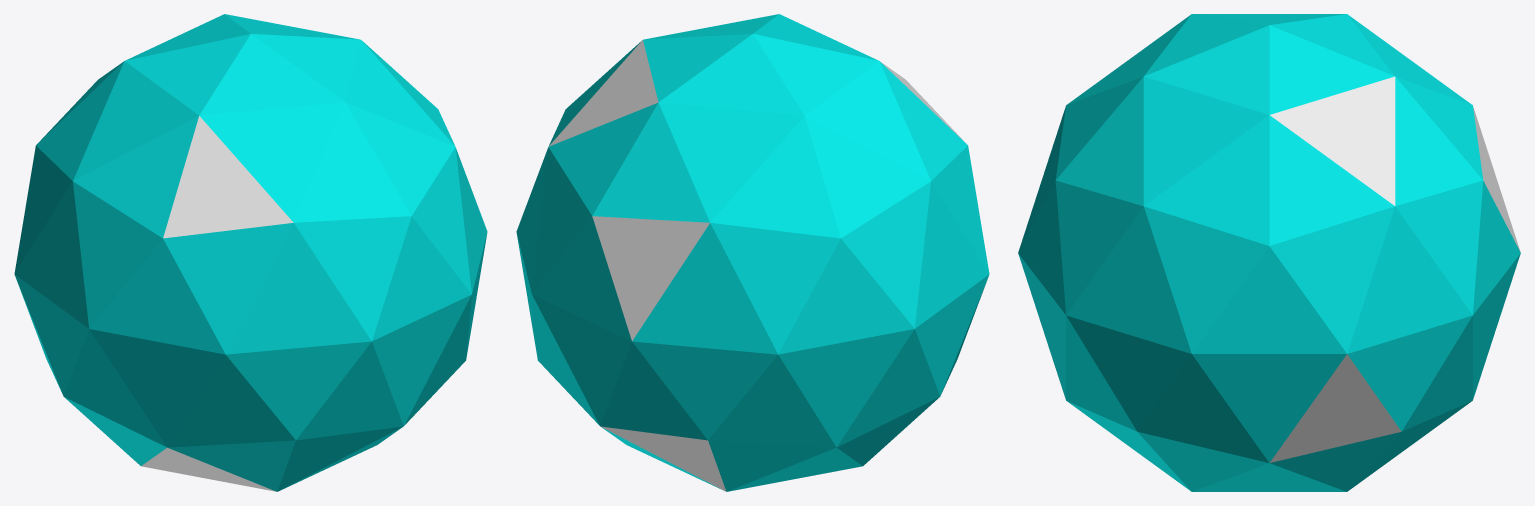
File: Diamond.fbx
The picture shows the model from 3 angles, left to right: view 1: azimuth 30°, elevation 25°; view 2: azimuth 150°, elevation 25°; view 3: azimuth 270°, elevation 25°; orthographic projection. The views are drawn at different scales.
Parts seen in each view (by area): view 1: Icosphere.008; view 2: Icosphere.008; view 3: Icosphere.008.
Part boxes in pixels (left/top/right/bottom): Icosphere.008: left=14, top=14, right=487, bottom=491; Icosphere.008: left=516, top=14, right=989, bottom=491; Icosphere.008: left=1018, top=14, right=1520, bottom=491.
Size of the model in its own units: 1.9 by 2 by 2.
